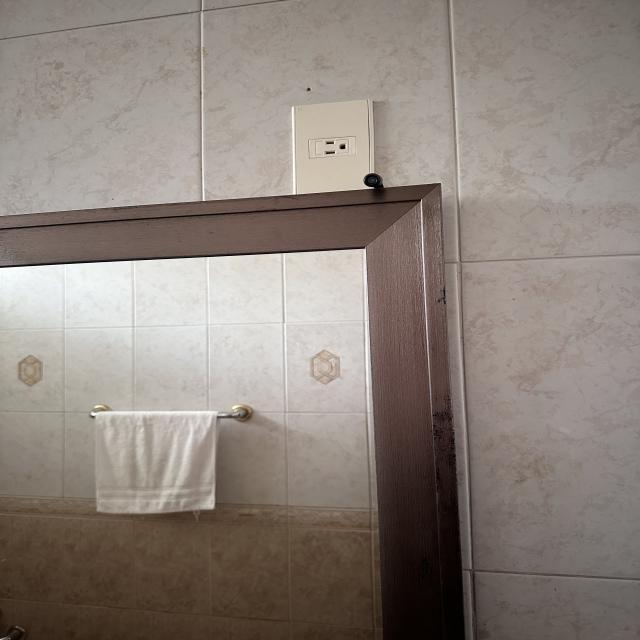hidden camera: (363, 173, 383, 188)
